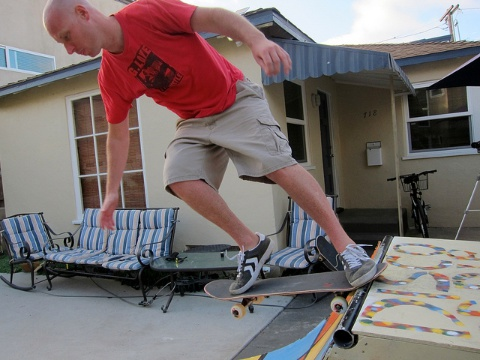hand: (252, 42, 294, 78), (97, 195, 120, 231)
